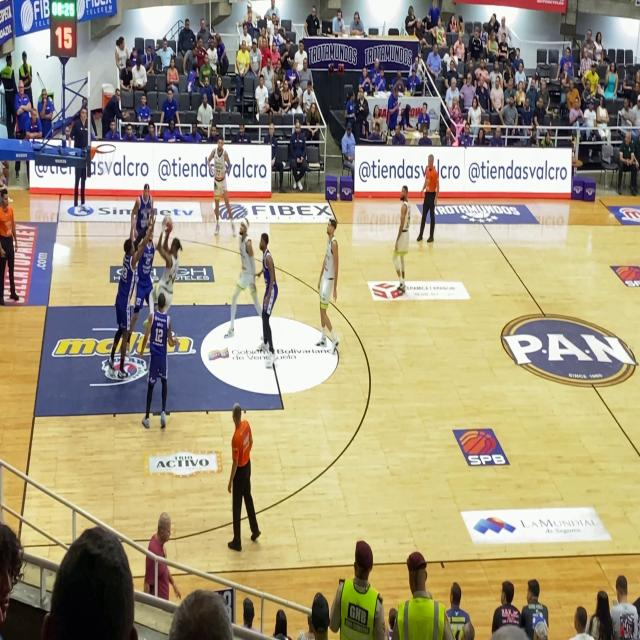Ball: (161, 202, 175, 240)
referee: (220, 393, 270, 563), (0, 175, 23, 301), (419, 148, 445, 257)
team1: (222, 207, 262, 346), (314, 210, 348, 360), (387, 175, 415, 300), (206, 122, 230, 240), (160, 220, 183, 308)
team2: (254, 220, 289, 372), (108, 234, 138, 380), (145, 294, 176, 424), (132, 220, 158, 335), (136, 175, 154, 245)
ubasket: (95, 142, 118, 158)
